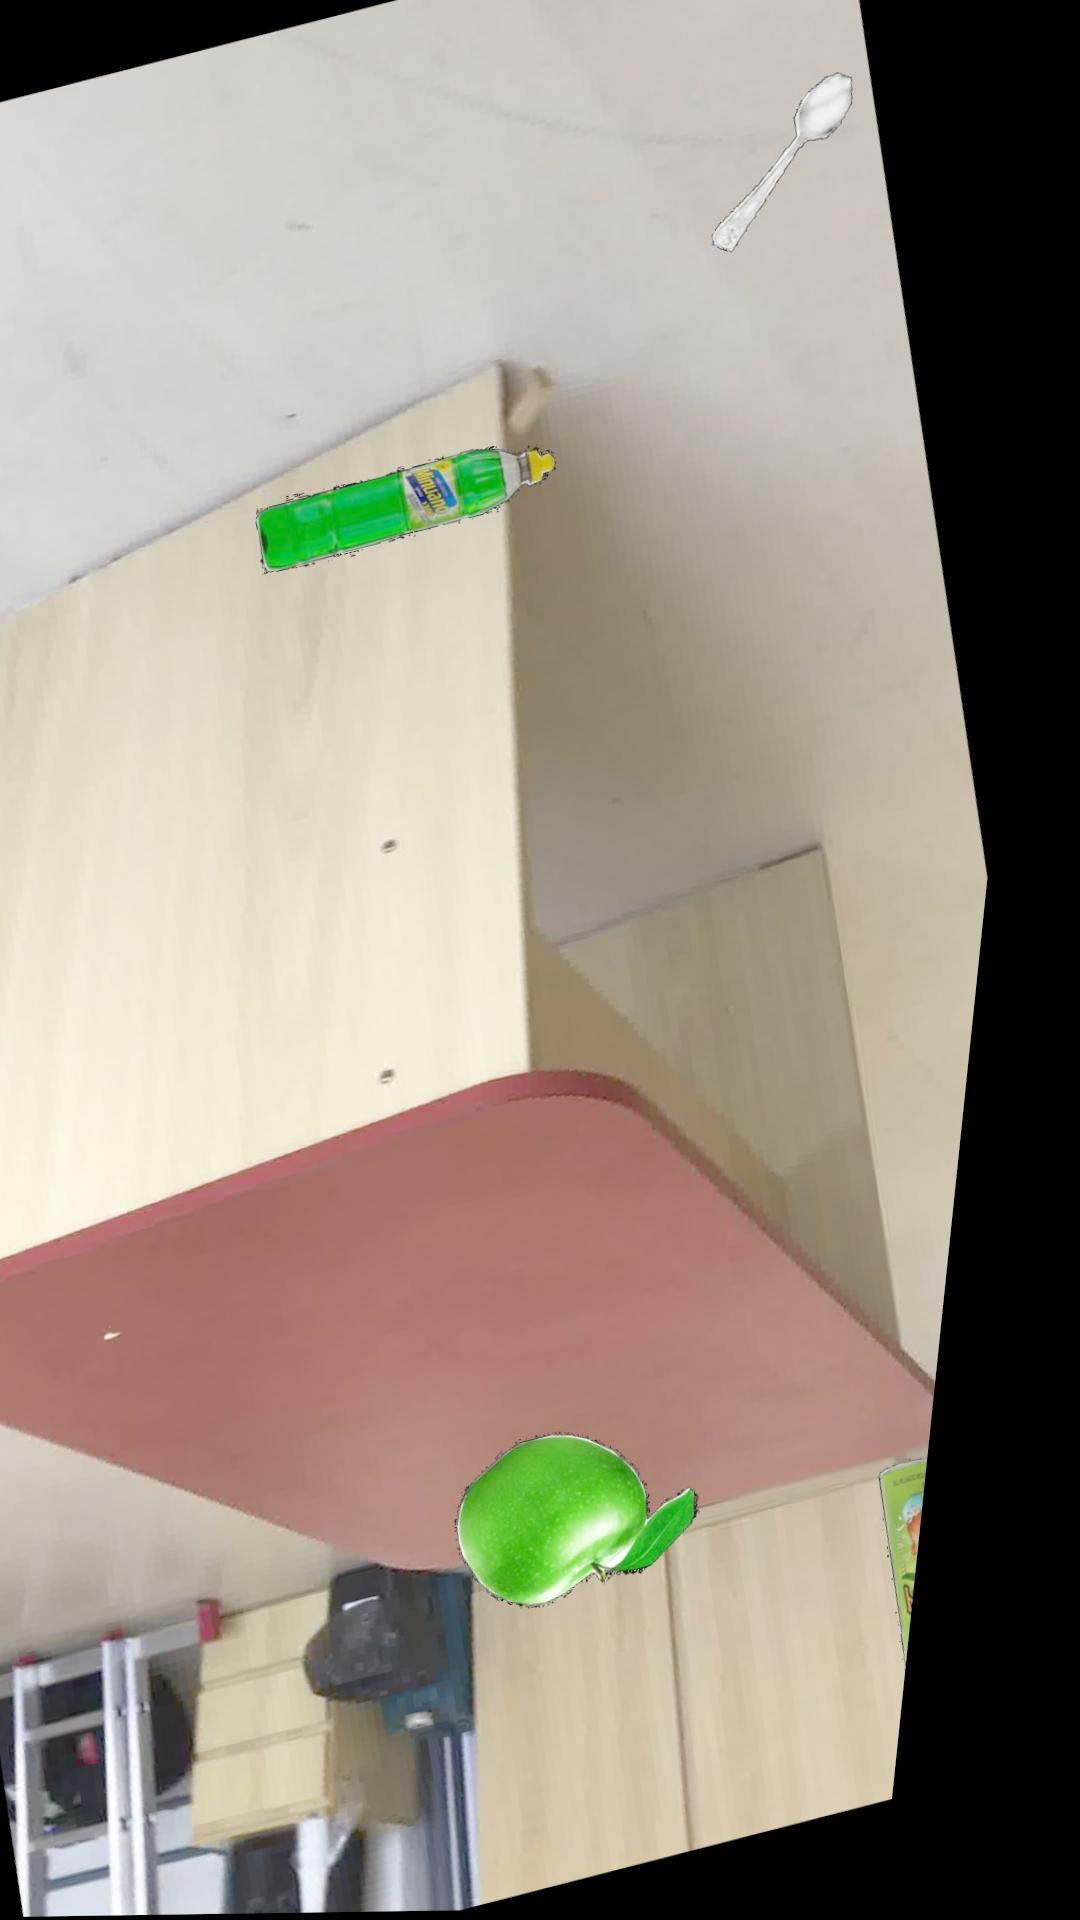cleaner: (266, 450, 566, 575)
green apple: (487, 1439, 731, 1610)
pringles: (910, 1462, 960, 1684)
spoon: (716, 76, 853, 256)
